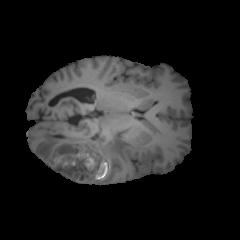glioma: (38, 128, 131, 183)
